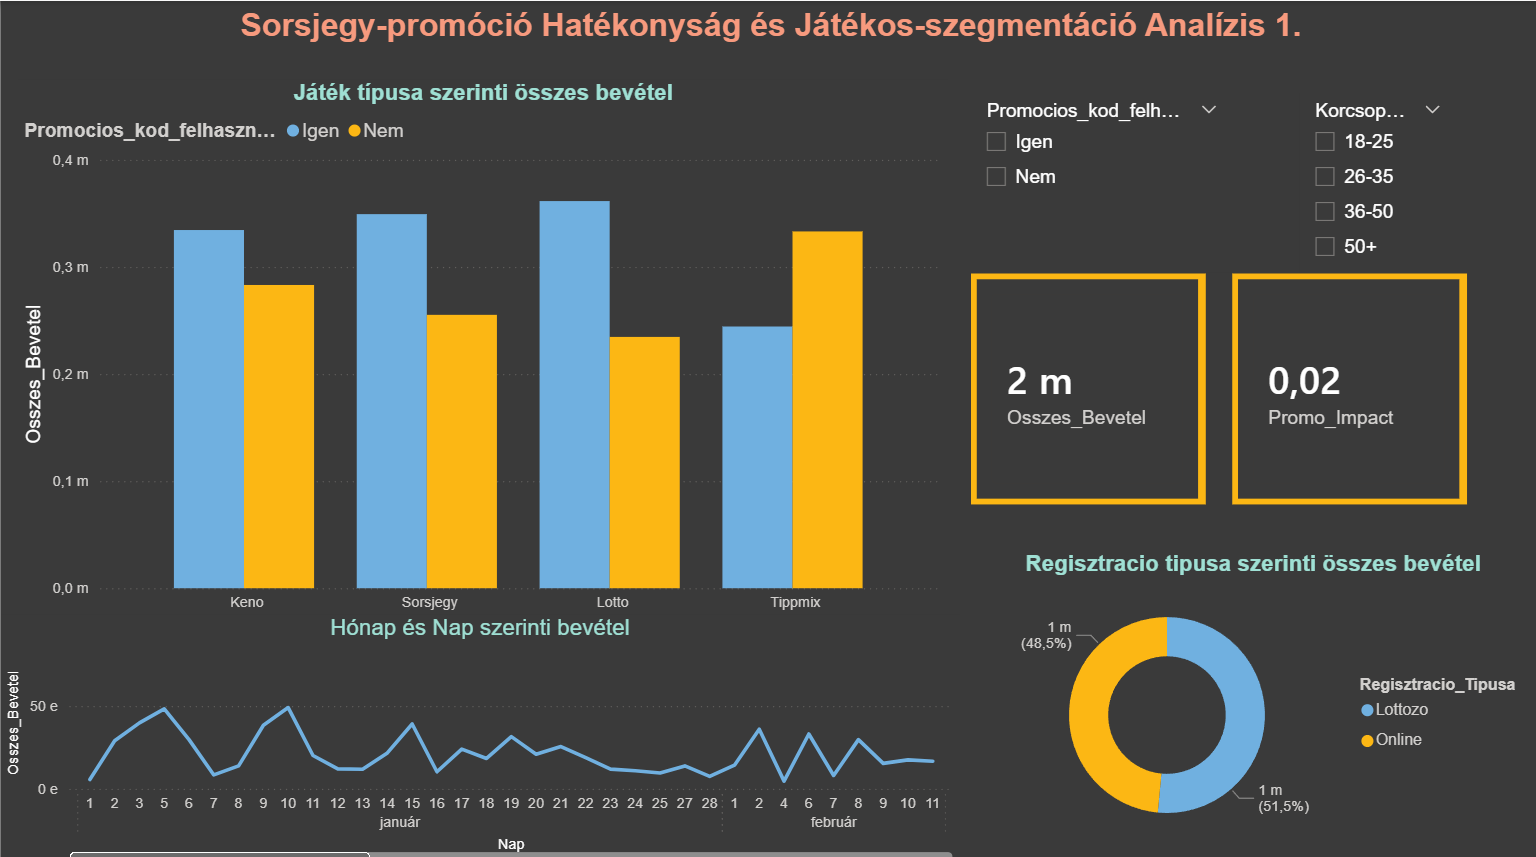

The dashboard page shown, as its layout file describes it:
{"tool":"powerbi","page":{"name":"Analysis1","canvas":[1280,720],"ordinal":0},"visuals":[{"type":"clusteredColumnChart","title":"Játék típusa szerinti összes bevétel","fields":{"Category":["Fact_Tranzakciok.Jatek_Tipusa"],"Y":["Fact_Tranzakciok.Osszes_Bevetel"],"Series":["Fact_Promociok.Promocios_kod_felhasznalva"]},"box":[14.4,65.4,772.9,465.6],"z":0},{"type":"slicer","fields":{"Values":["Fact_Promociok.Promocios_kod_felhasznalva"]},"box":[806.9,77.2,217.1,149.1],"z":1000},{"type":"slicer","fields":{"Values":["Dim_Jatekosok.Korcsoport"]},"box":[1080.2,77.2,129.5,149.1],"z":2000},{"type":"cardVisual","fields":{"Data":["Fact_Tranzakciok.Osszes_Bevetel"]},"box":[806.9,226.2,194.9,192.2],"z":3000},{"type":"cardVisual","fields":{"Data":["Fact_Tranzakciok.Promo_Impact"]},"box":[1024,226.2,194.9,192.2],"z":4000},{"type":"textbox","box":[70.6,0,1139,47.1],"z":5000},{"type":"donutChart","title":"Regisztracio tipusa szerinti összes bevétel","fields":{"Category":["Dim_Jatekosok.Regisztracio_Tipusa"],"Y":["Fact_Tranzakciok.Osszes_Bevetel"]},"box":[804.3,457.7,473.4,252.4],"z":6000},{"type":"lineChart","title":"Hónap és Nap szerinti bevétel","fields":{"Category":["Fact_Tranzakciok.Datum.Változat.Dátumhierarchia.Hónap","Fact_Tranzakciok.Datum.Változat.Dátumhierarchia.Nap"],"Y":["Fact_Tranzakciok.Osszes_Bevetel"]},"box":[0,510,796.4,210.5],"z":7000}]}

Visuals, with their boxes in screenshot pixels (x1, y1, x2, y2), scaled from the page's 1280x720 canvas onto the 1536x857 screenshot:
"Játék típusa szerinti összes bevétel" clusteredColumnChart: {"x1": 17, "y1": 78, "x2": 945, "y2": 632}
slicer - Fact_Promociok.Promocios_kod_felhasznalva: {"x1": 968, "y1": 92, "x2": 1229, "y2": 269}
slicer - Dim_Jatekosok.Korcsoport: {"x1": 1296, "y1": 92, "x2": 1452, "y2": 269}
cardVisual - Fact_Tranzakciok.Osszes_Bevetel: {"x1": 968, "y1": 269, "x2": 1202, "y2": 498}
cardVisual - Fact_Tranzakciok.Promo_Impact: {"x1": 1229, "y1": 269, "x2": 1463, "y2": 498}
textbox: {"x1": 85, "y1": 0, "x2": 1452, "y2": 56}
"Regisztracio tipusa szerinti összes bevétel" donutChart: {"x1": 965, "y1": 545, "x2": 1533, "y2": 845}
"Hónap és Nap szerinti bevétel" lineChart: {"x1": 0, "y1": 607, "x2": 956, "y2": 856}
